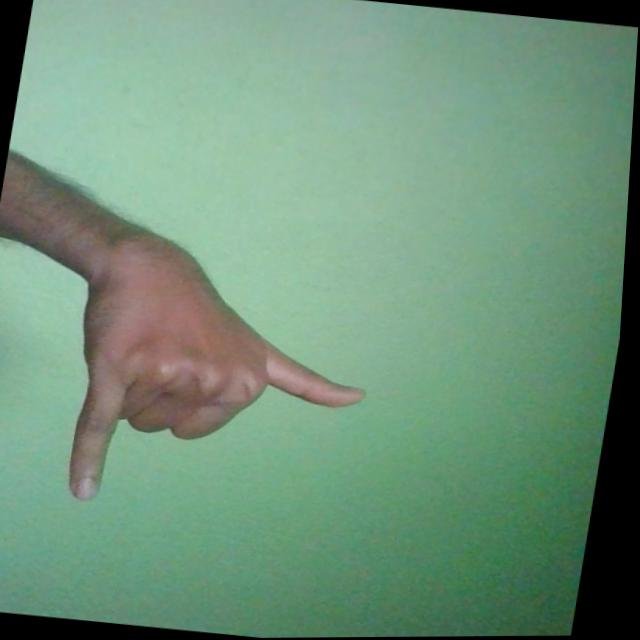Call Me: (51, 214, 394, 529)
